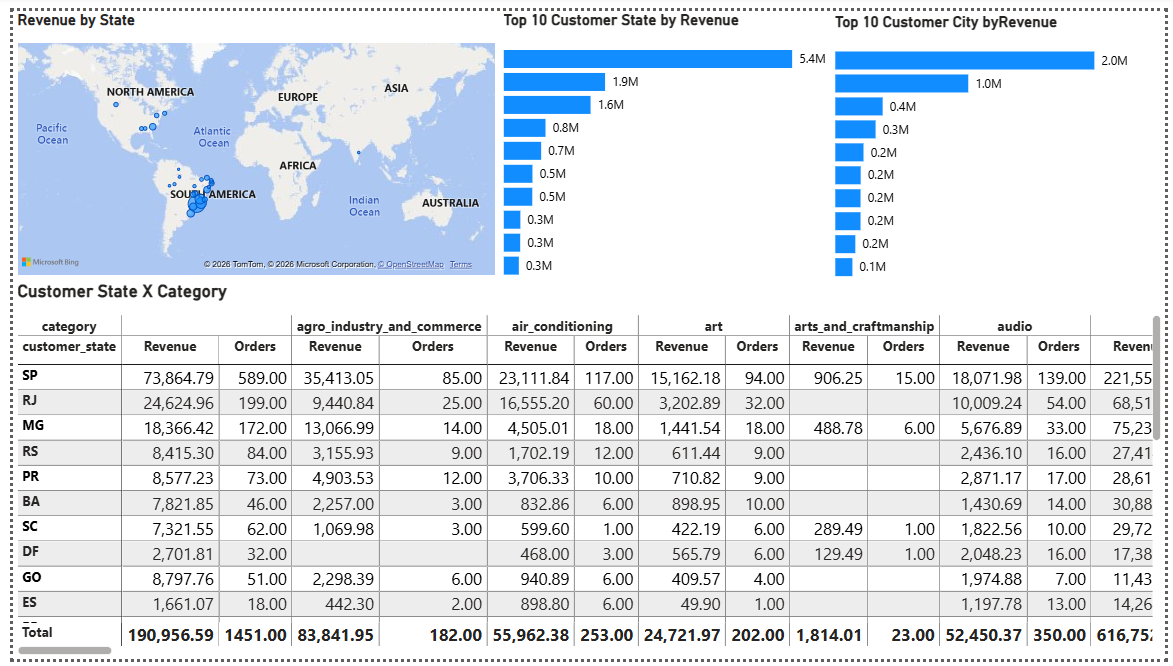

What the dashboard file says about the page in this screenshot:
{"tool":"powerbi","page":{"name":"Customer GEO","canvas":[1280,720],"ordinal":3},"visuals":[{"type":"map","title":"Revenue by State","fields":{"Category":["public bi_fact_sales.customer_state"],"Size":["public bi_fact_sales.Revenue"]},"box":[0,0,540,298.3],"z":0},{"type":"barChart","title":"Top 10 Customer State by Revenue","fields":{"Category":["public bi_fact_sales.customer_state"],"Y":["public bi_fact_sales.Revenue"]},"box":[540,0,368.3,298.3],"z":1000},{"type":"barChart","title":"Top 10 Customer City byRevenue","fields":{"Y":["public bi_fact_sales.Revenue"],"Category":["public bi_fact_sales.customer_city"]},"box":[908.3,1.7,368.3,298.3],"z":2000},{"type":"pivotTable","title":"Customer State X Category","fields":{"Values":["public bi_fact_sales.Revenue","public bi_fact_sales.Orders"],"Columns":["public bi_fact_sales.category"],"Rows":["public bi_fact_sales.customer_state"]},"box":[0,300,1280,420],"z":3000}]}

Visuals, with their boxes in screenshot pixels (x1, y1, x2, y2), scaled from the page's 1280x720 canvas onto the 1173x666 screenshot:
"Revenue by State" map: crop(0, 0, 495, 276)
"Top 10 Customer State by Revenue" barChart: crop(495, 0, 832, 276)
"Top 10 Customer City byRevenue" barChart: crop(832, 2, 1170, 278)
"Customer State X Category" pivotTable: crop(0, 278, 1172, 665)
